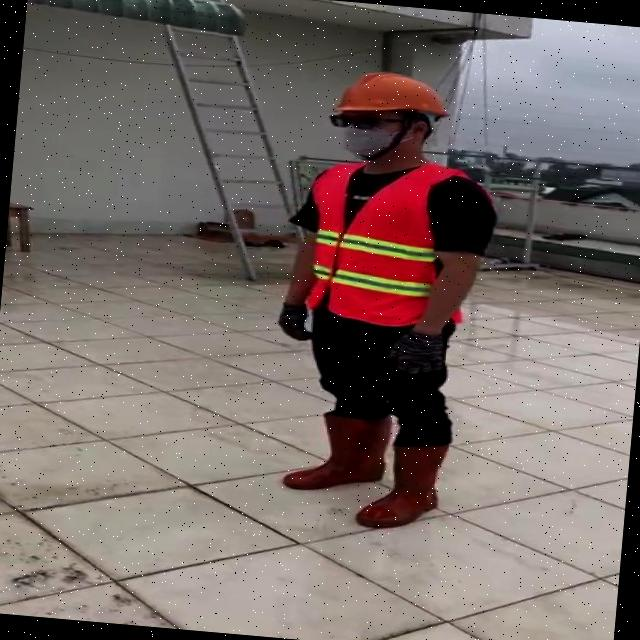boots: (350, 434, 452, 536), (282, 409, 387, 498)
